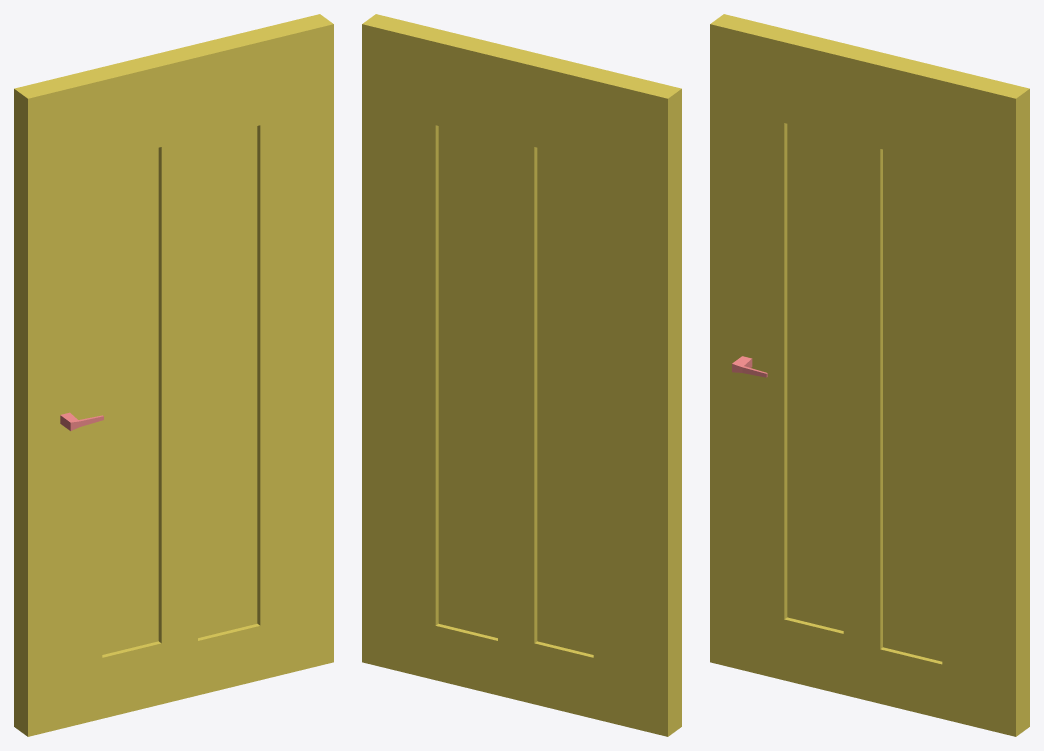
Rendered from Door1.FBX.
3 renders of one model, left to right at view 1: azimuth 30°, elevation 25°; view 2: azimuth 150°, elevation 25°; view 3: azimuth 330°, elevation 25°, orthographic.
Parts seen in each view (by area): view 1: Door03; view 2: Door03; view 3: Door03.
Part boxes in pixels (x1,y1,x2,y2): Door03: (14,14,333,736); Door03: (362,14,681,736); Door03: (710,14,1029,736).
Size of the model in its own units: 40.75 by 81.24 by 5.6.
